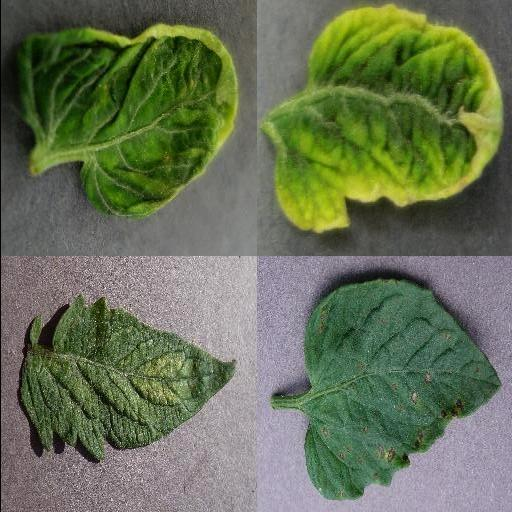Septoria: (300, 279, 500, 502)
Spider Mites: (16, 296, 236, 460)
Yellow Leaf Curl Virus: (260, 6, 504, 235), (0, 21, 239, 219)
